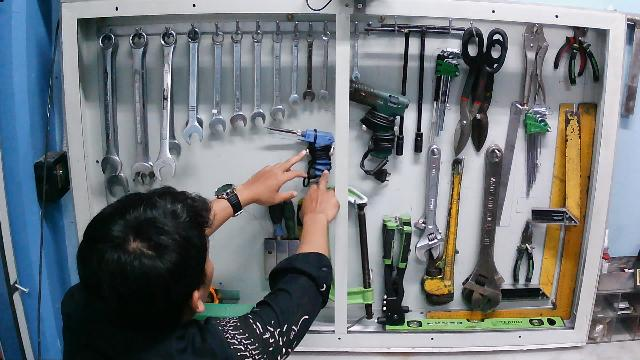solder_electrical: (266, 123, 336, 187)
